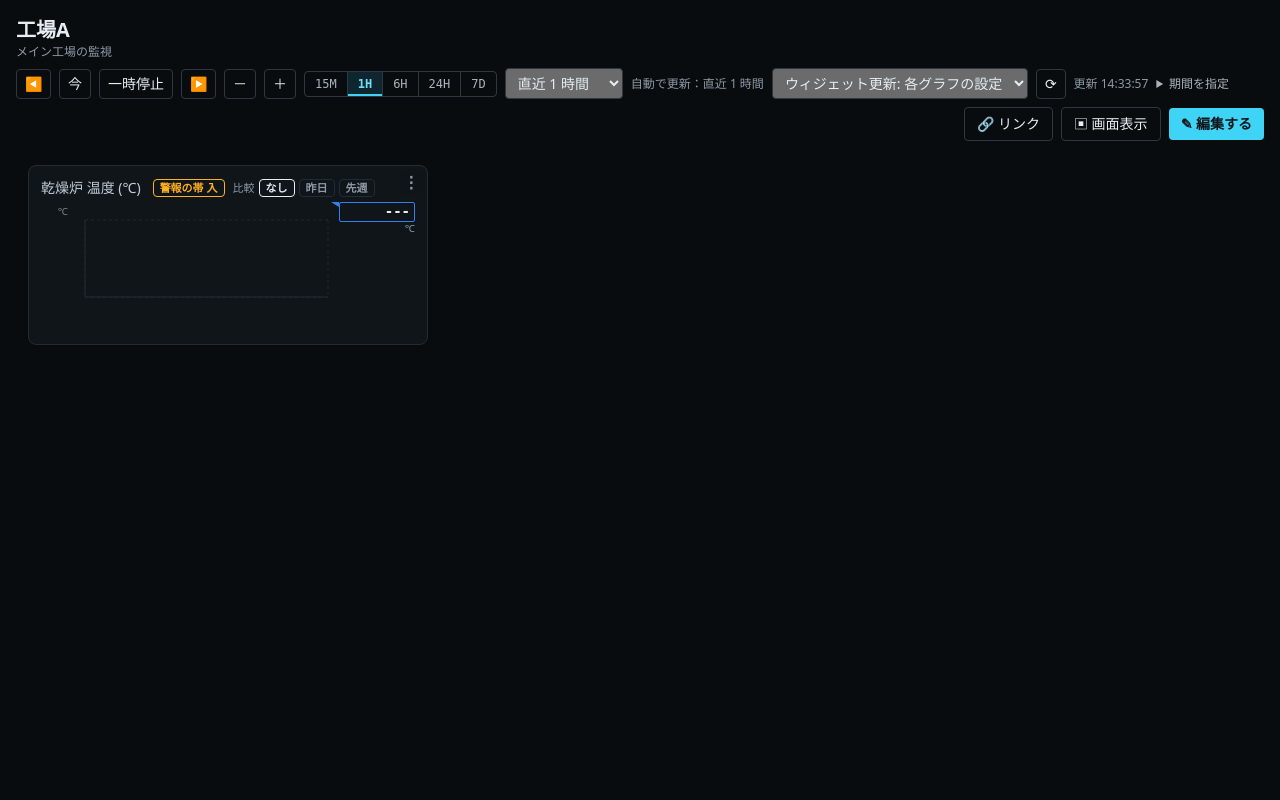
Test case: DashboardView › 「🔗 リンク」で、リンクを作る窓を開く
This screenshot has width=1280, height=800.
Click the button "🔗 リンク": (1009, 124) [964, 107, 1053, 141]
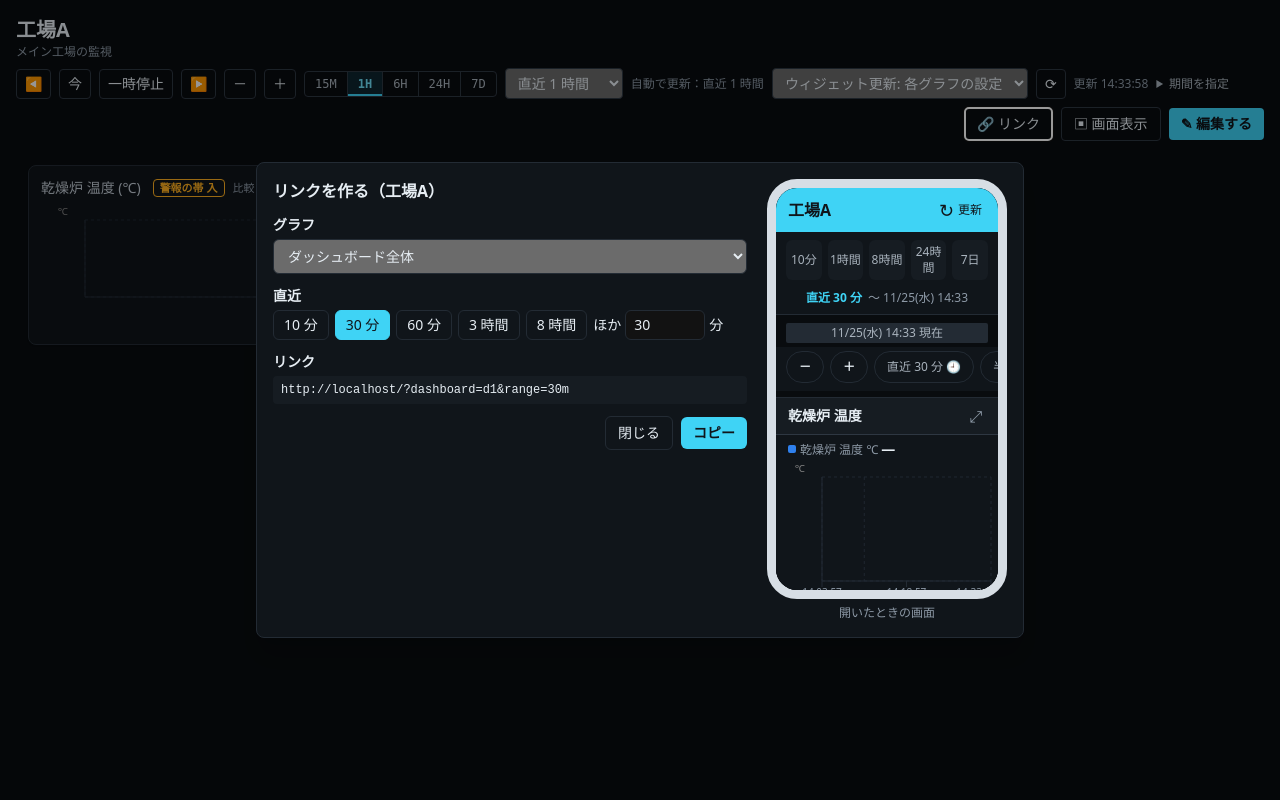
expect the heading "リンクを作る（工場A）" is shown: met, box [273, 180, 444, 202]
expect the text "http://localhost/?dashboard=d1&range=30m" is shown: met, box [273, 376, 747, 404]
